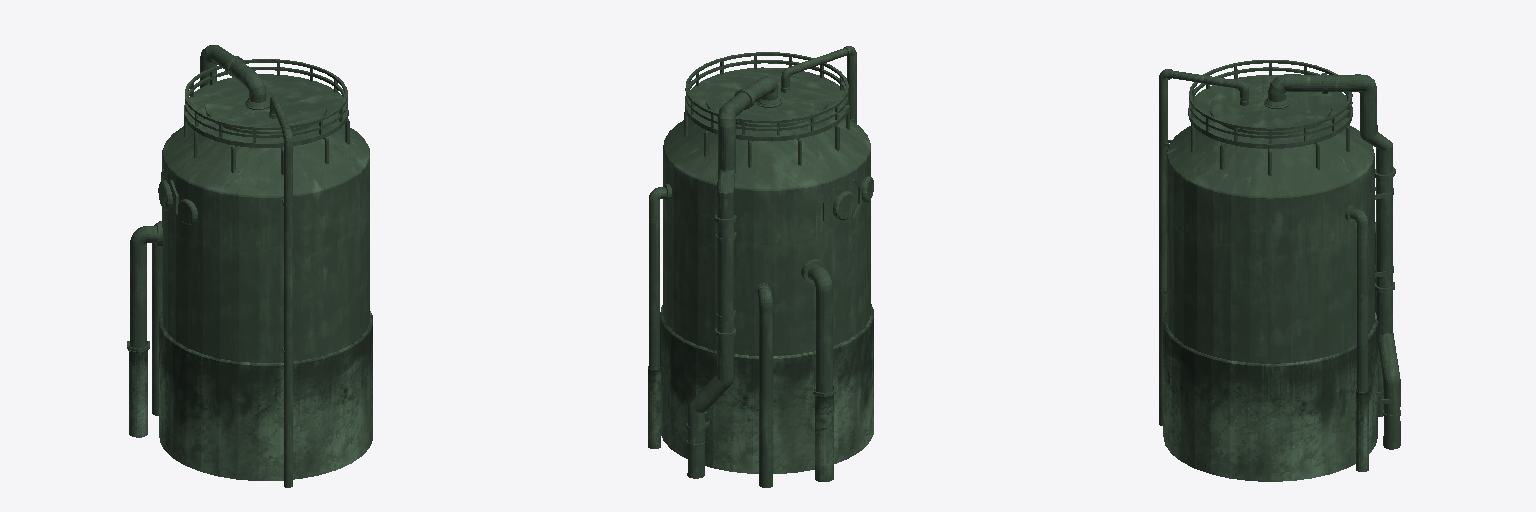
3 renders of one model, left to right at view 1: azimuth 30°, elevation 25°; view 2: azimuth 150°, elevation 25°; view 3: azimuth 270°, elevation 25°, orthographic.
Parts seen in each view (by area): view 1: _cage.001; view 2: _cage.001; view 3: _cage.001.
Part boxes in pixels (x1,y1,x2,y2): _cage.001: (127,45,372,487); _cage.001: (648,46,873,487); _cage.001: (1159,60,1400,481).
Bounding box in the file's own units: 4.58 × 8.11 × 4.89.
1 materials, 1 textured.